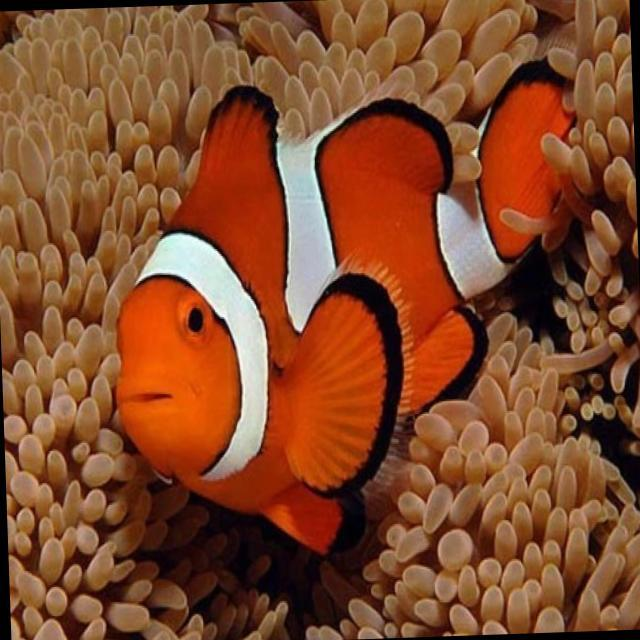ClownFish: (113, 59, 587, 557)
